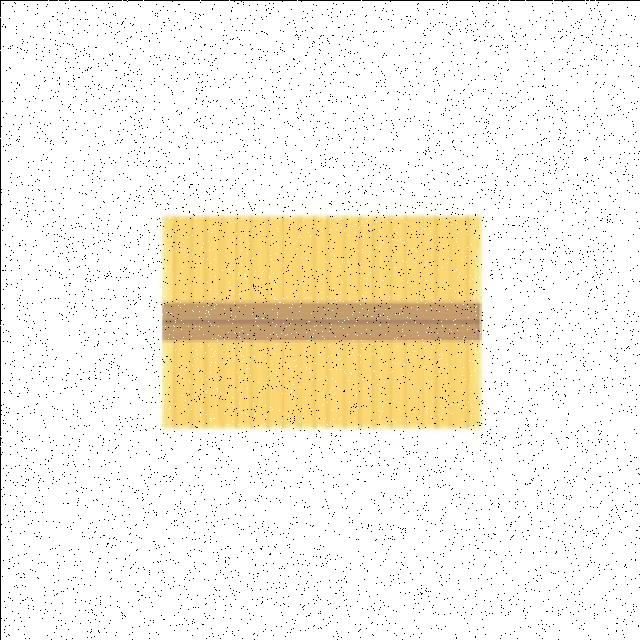normal: (154, 206, 486, 434)
